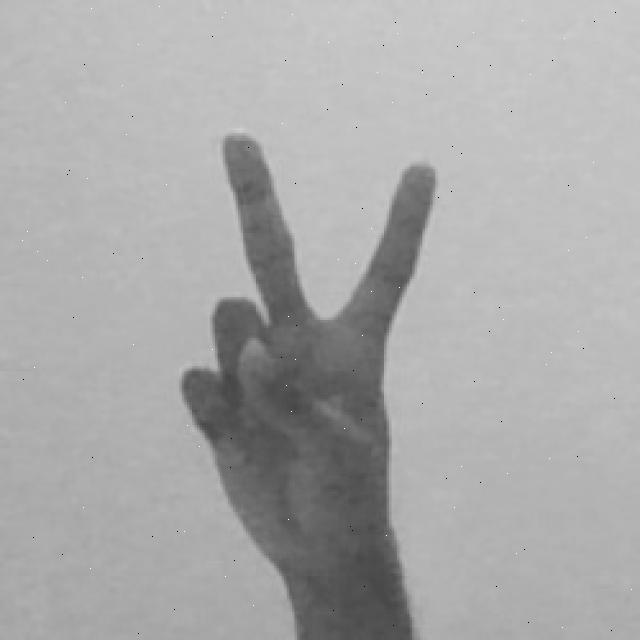V: (171, 122, 435, 640)
